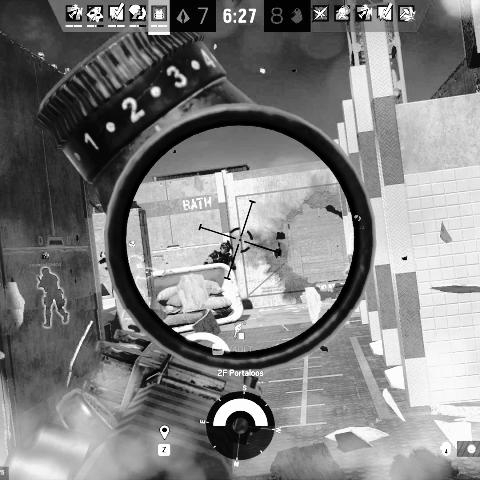Character: (202, 241, 237, 272)
Friend_label: (28, 251, 62, 268), (349, 215, 366, 230), (126, 240, 138, 255)
Head: (219, 241, 231, 255)
